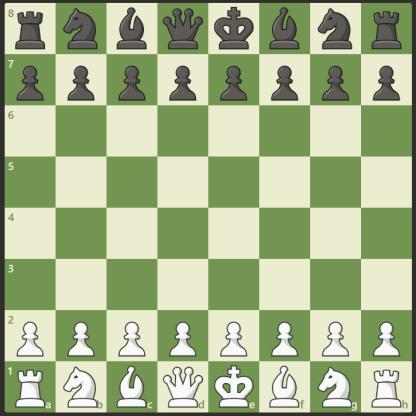black-bishop: (266, 3, 305, 52), (114, 5, 149, 53)
black-king: (211, 3, 257, 52)
black-knight: (60, 4, 102, 52), (315, 3, 355, 51)
black-pawn: (165, 59, 201, 103), (217, 60, 252, 104), (268, 60, 302, 103), (319, 62, 354, 102), (116, 61, 150, 102), (370, 62, 404, 102), (66, 62, 99, 103), (15, 63, 48, 103)
black-queen: (161, 6, 205, 52)
black-rook: (368, 6, 407, 52), (13, 5, 49, 52)
white-bishop: (266, 364, 302, 410), (115, 363, 149, 409)
white-king: (214, 364, 256, 411)
white-knight: (317, 364, 356, 410), (62, 366, 102, 410)
white-pawn: (115, 317, 150, 359), (167, 316, 201, 358), (66, 316, 100, 358), (320, 316, 353, 359), (217, 317, 250, 360), (14, 318, 48, 359), (269, 318, 302, 359), (372, 318, 402, 359)
white-queen: (161, 362, 207, 408)
white-rook: (369, 366, 404, 409), (14, 366, 47, 410)
